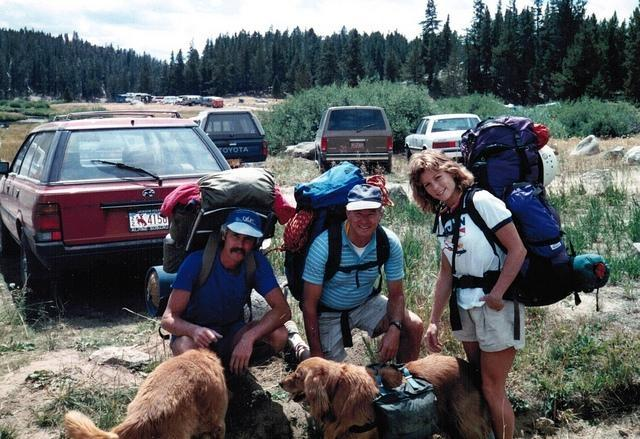car: (0, 109, 231, 299), (314, 106, 394, 174), (408, 113, 482, 160), (203, 113, 268, 166), (200, 96, 216, 107), (154, 97, 164, 102)
truck: (175, 94, 202, 106), (124, 92, 149, 102)
